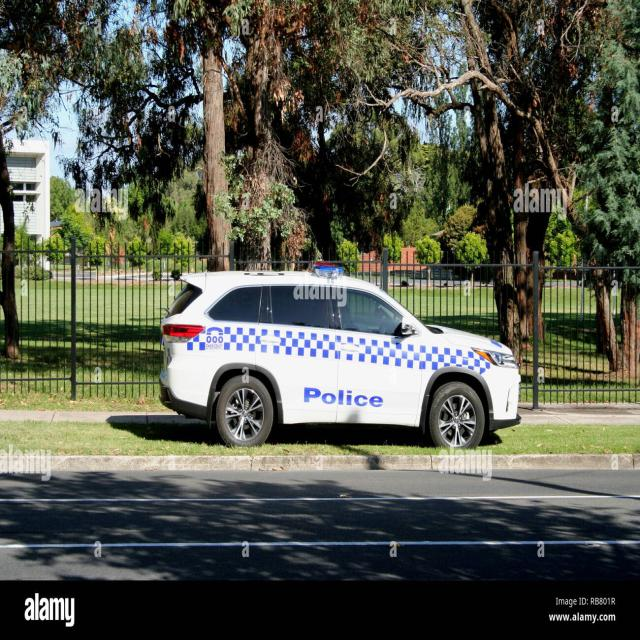cop: (160, 267, 524, 447)
